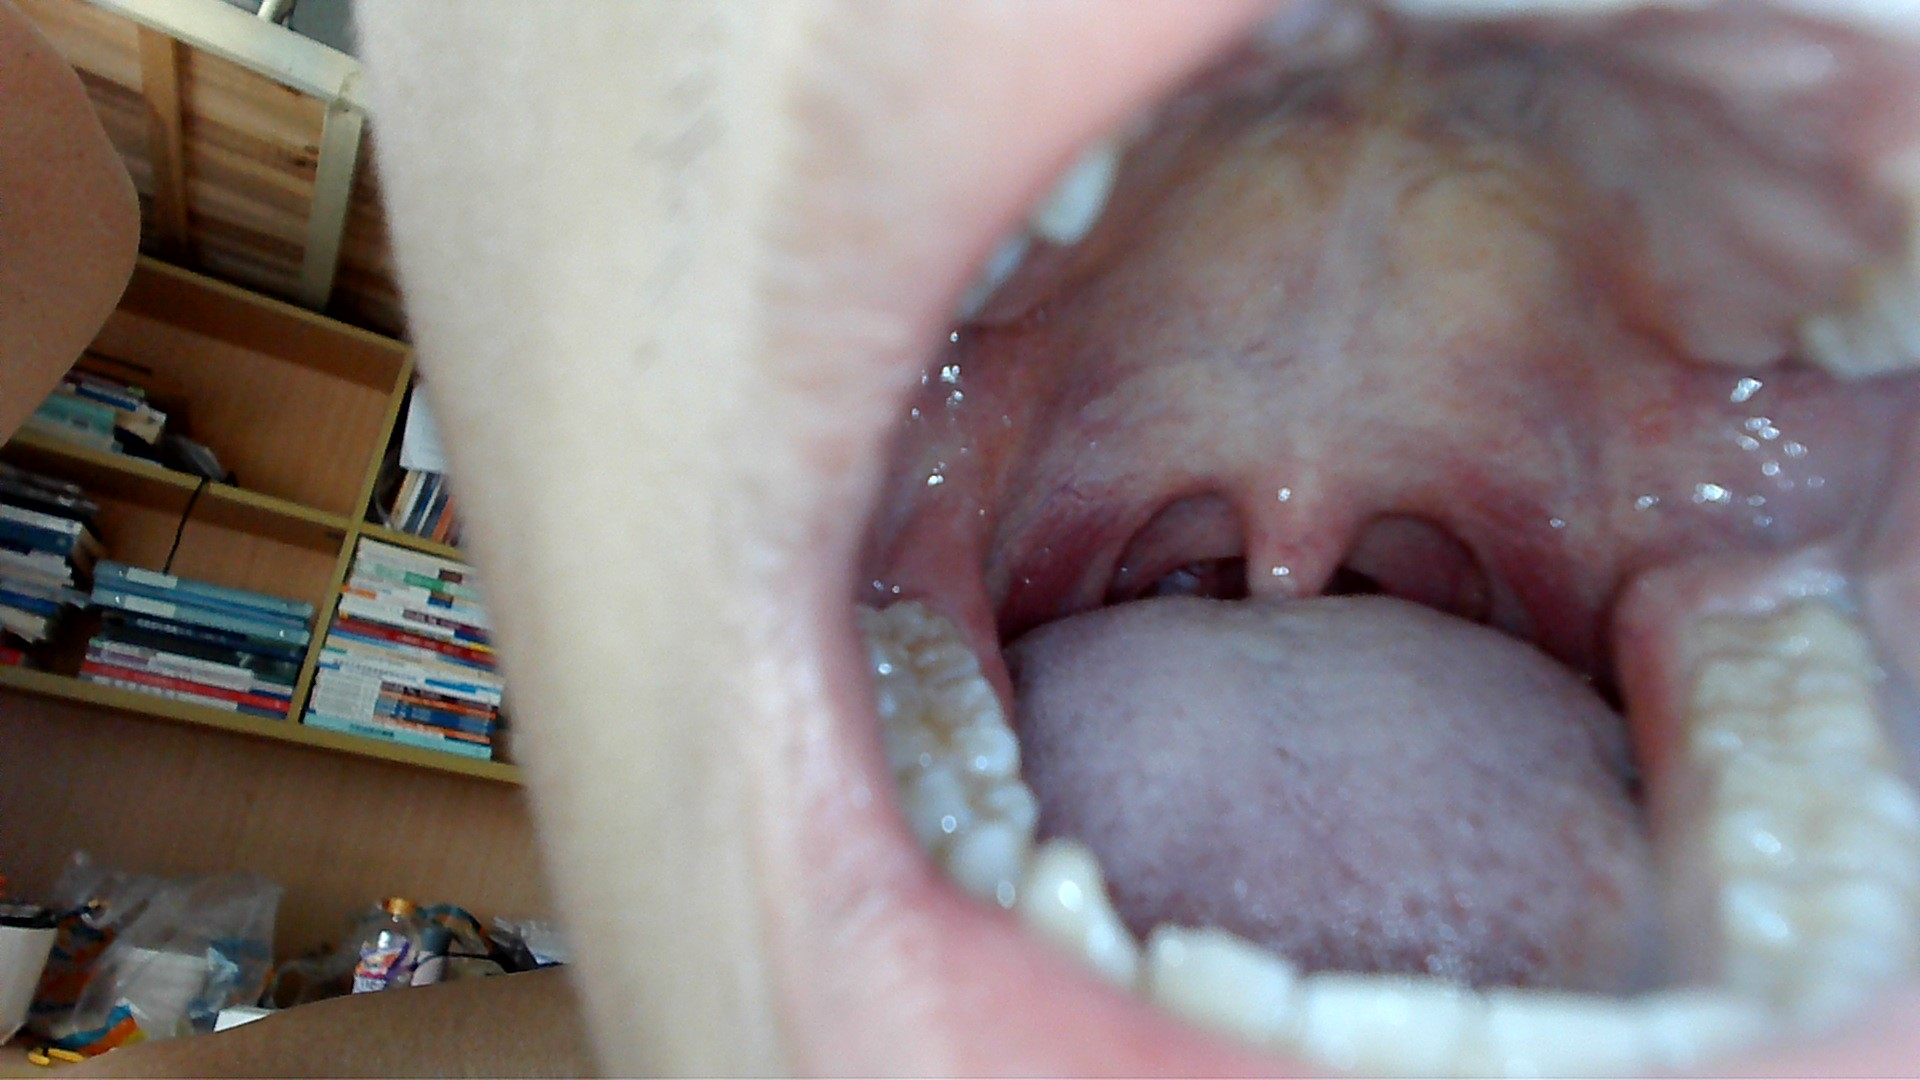throat: (1482, 476, 1571, 628), (1062, 468, 1142, 604)
